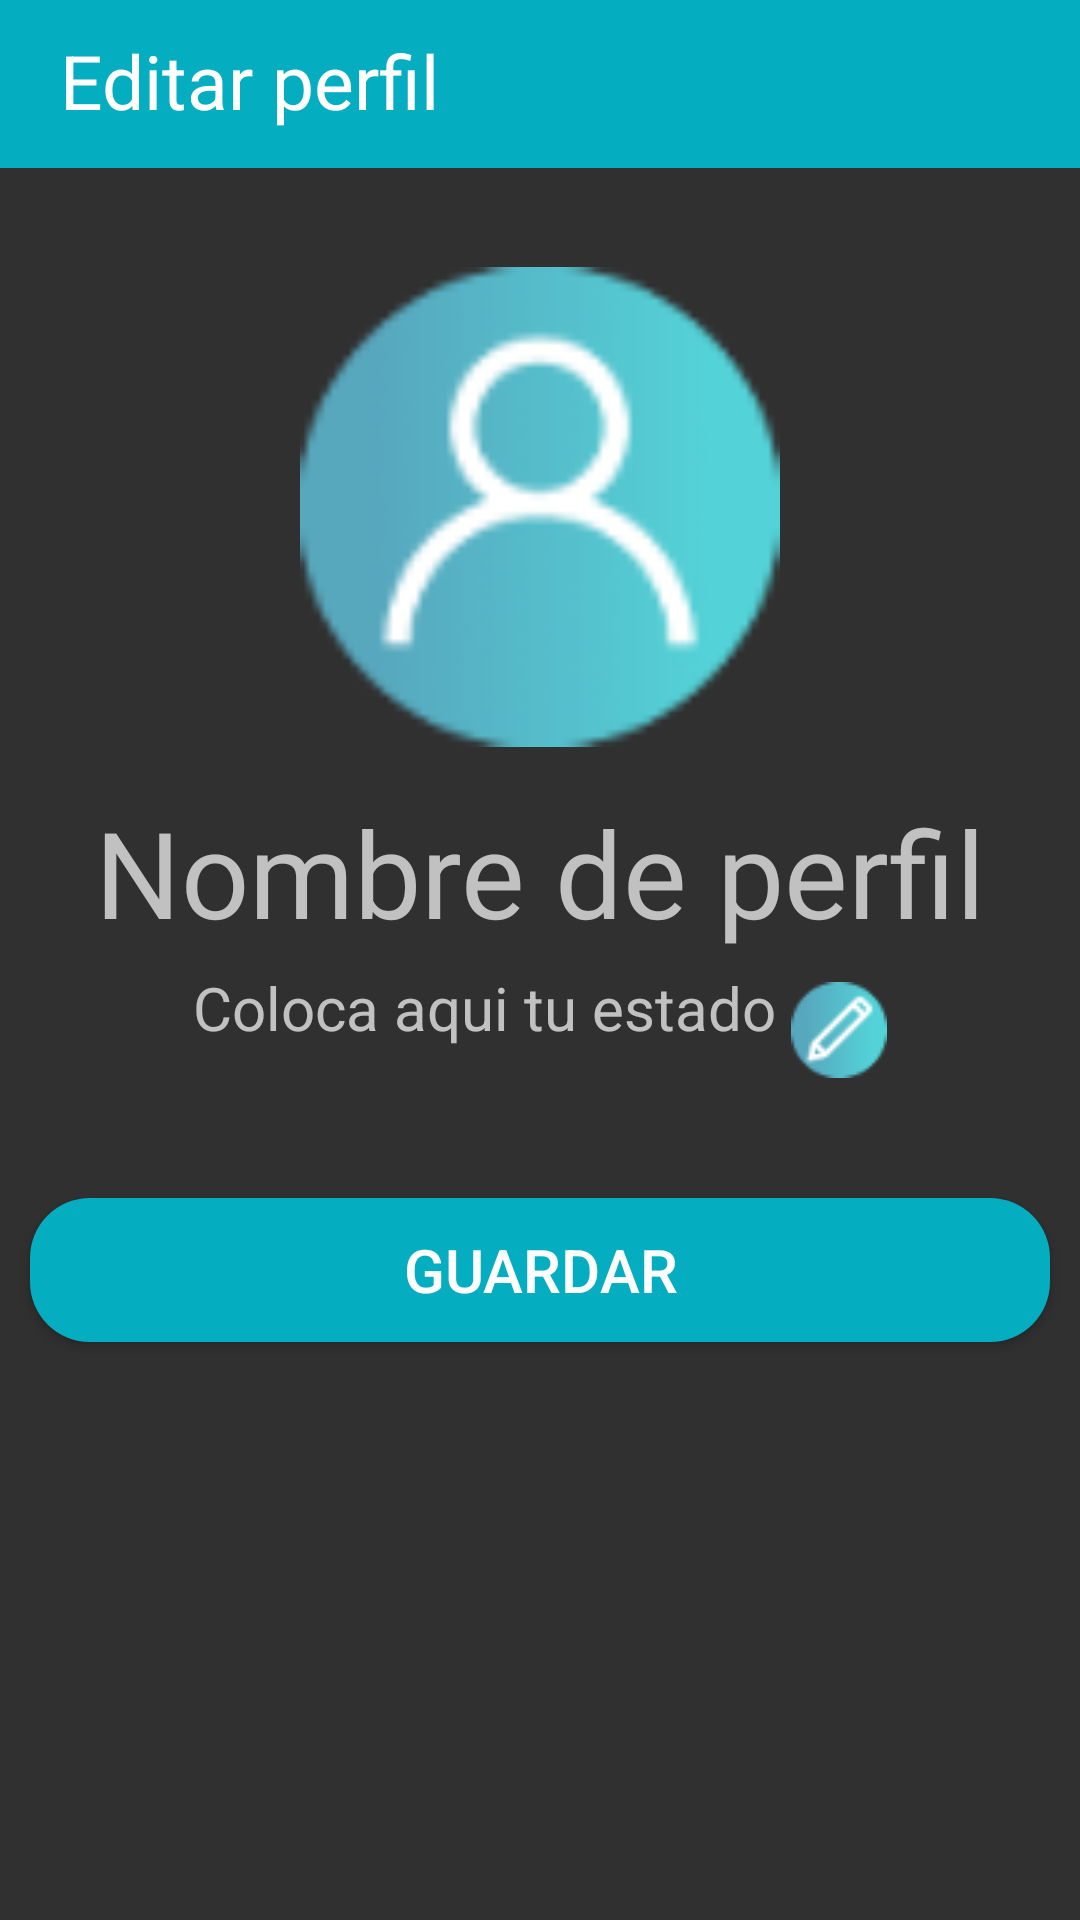

Icon click points for this 1080 × 1920 phone screenshot, format (x=x, y=y):
edit: (x=839, y=1030)
